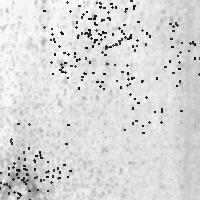pitted_surface: (3, 2, 145, 191), (74, 29, 132, 88), (124, 72, 180, 132), (10, 123, 69, 178), (77, 0, 137, 49), (50, 34, 105, 85), (94, 0, 149, 45), (164, 22, 200, 81), (0, 166, 59, 200), (43, 0, 102, 33), (0, 151, 39, 200)
